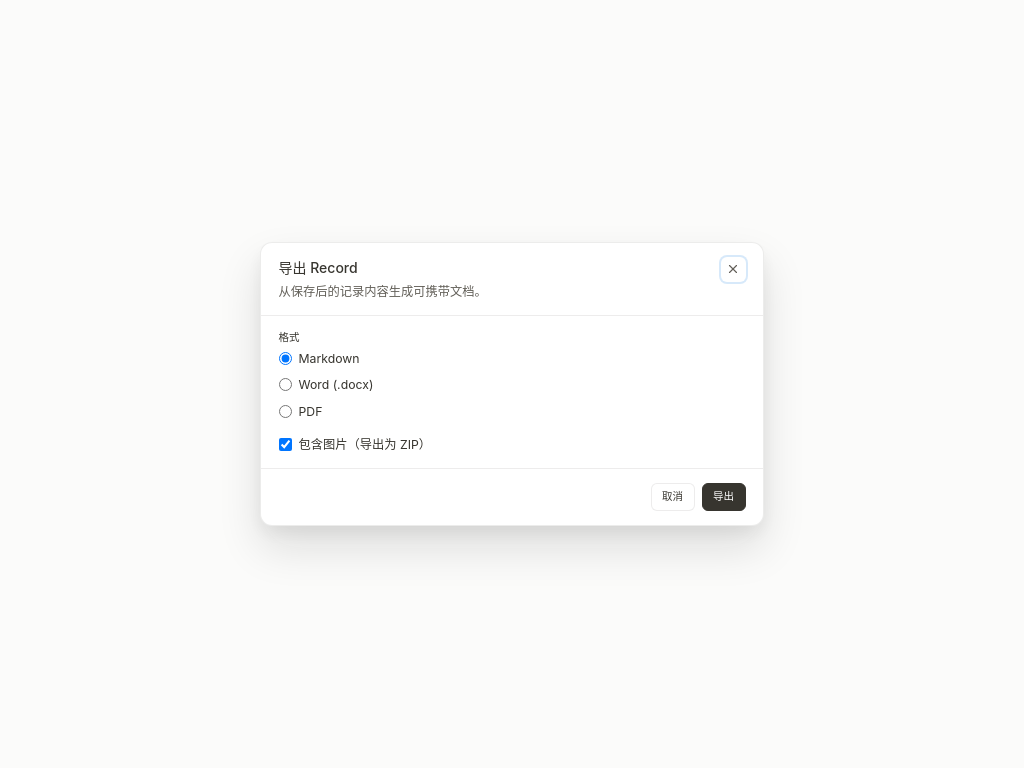
Scenario: RecordExportDialog thin UI boundary › shows save failures without reporting success or opening a file
Step 1. Click the button "导出" → (724, 497), box [702,483,746,511]
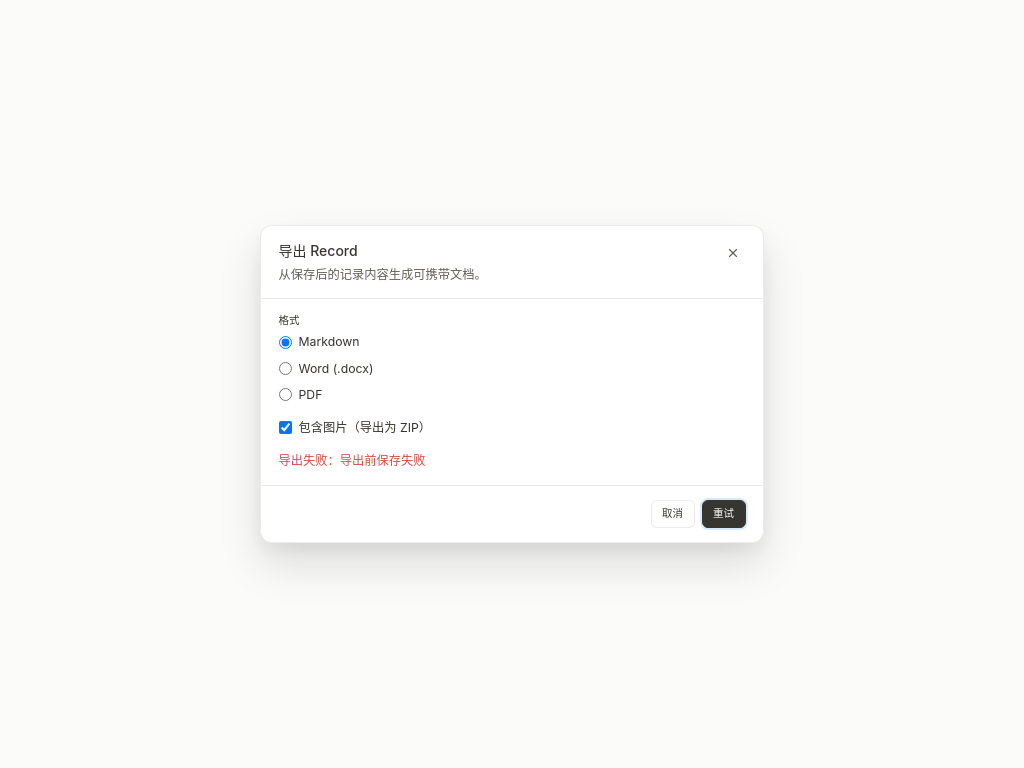
Expected: the message shows "导出前保存失败", [340,453,426,468]
